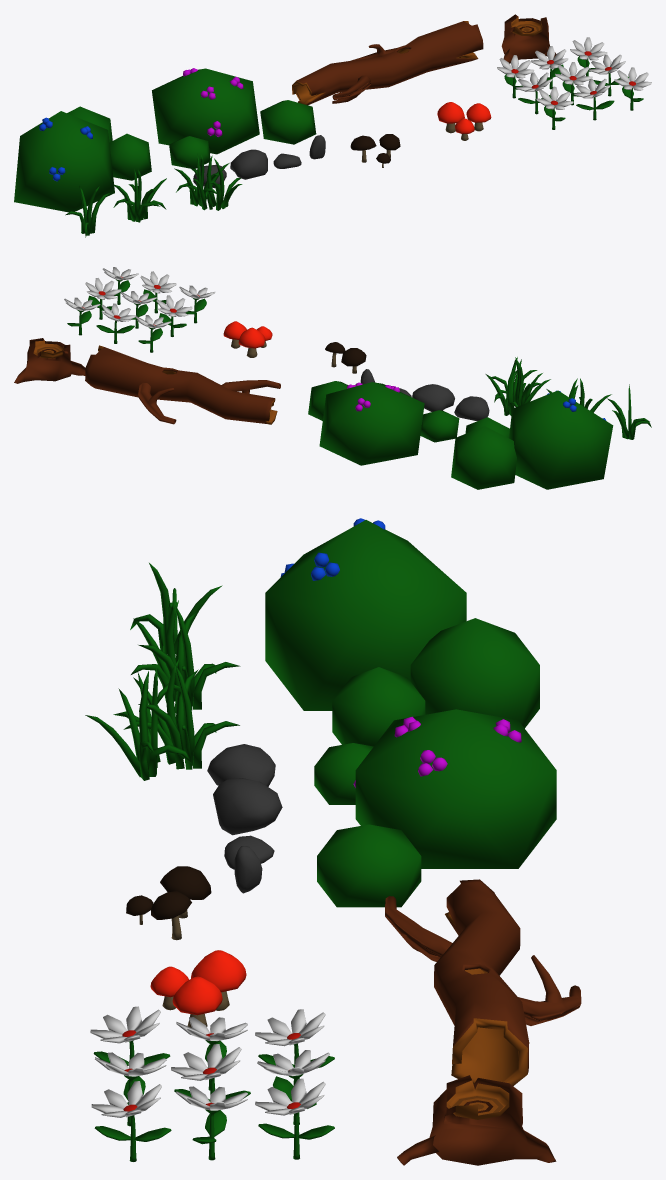
Rendered from Bushes.obj.
3 renders of one model, top to bottom at view 1: azimuth 30°, elevation 25°; view 2: azimuth 150°, elevation 25°; view 3: azimuth 270°, elevation 25°, orthographic. The views are drawn at different scales.
Size of the model in its own units: 1.91 by 0.2655 by 0.7361.
